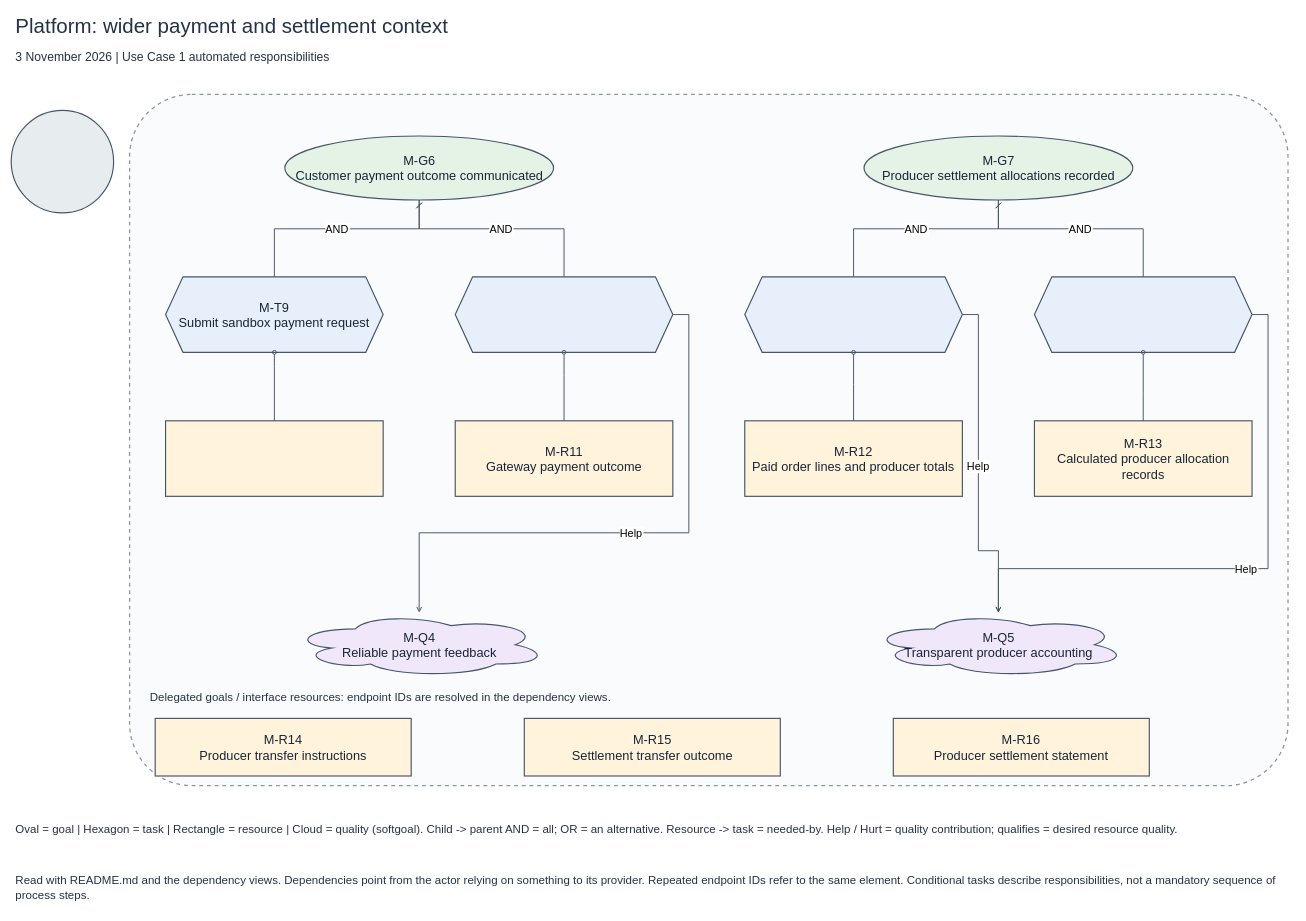
Image size: 1306x921. Some labels were removed from this diagram. Here are the shapes that lost their labels. From the top down, the box of each, then its label:
(10, 110, 114, 213): Marketplace Platform
(454, 276, 673, 353): M-T10 Record and communicate payment result
(744, 276, 963, 353): M-T11 Calculate 5% commission and producer shares
(1034, 276, 1252, 353): M-T12 Prepare weekly settlement instructions
(165, 420, 383, 497): M-R10 Valid sandbox payment request
